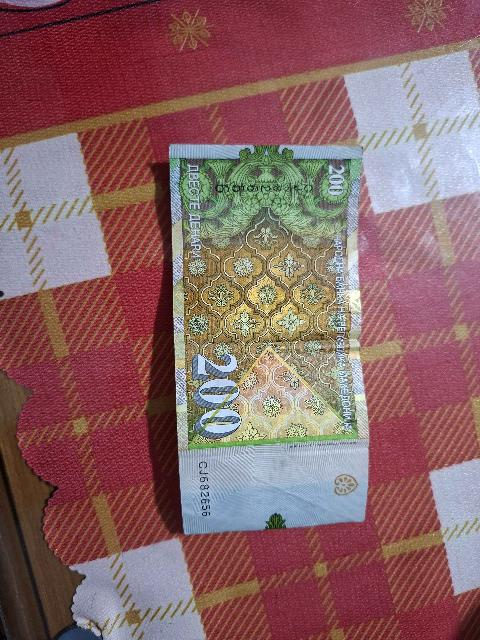note: (171, 145, 368, 532)
